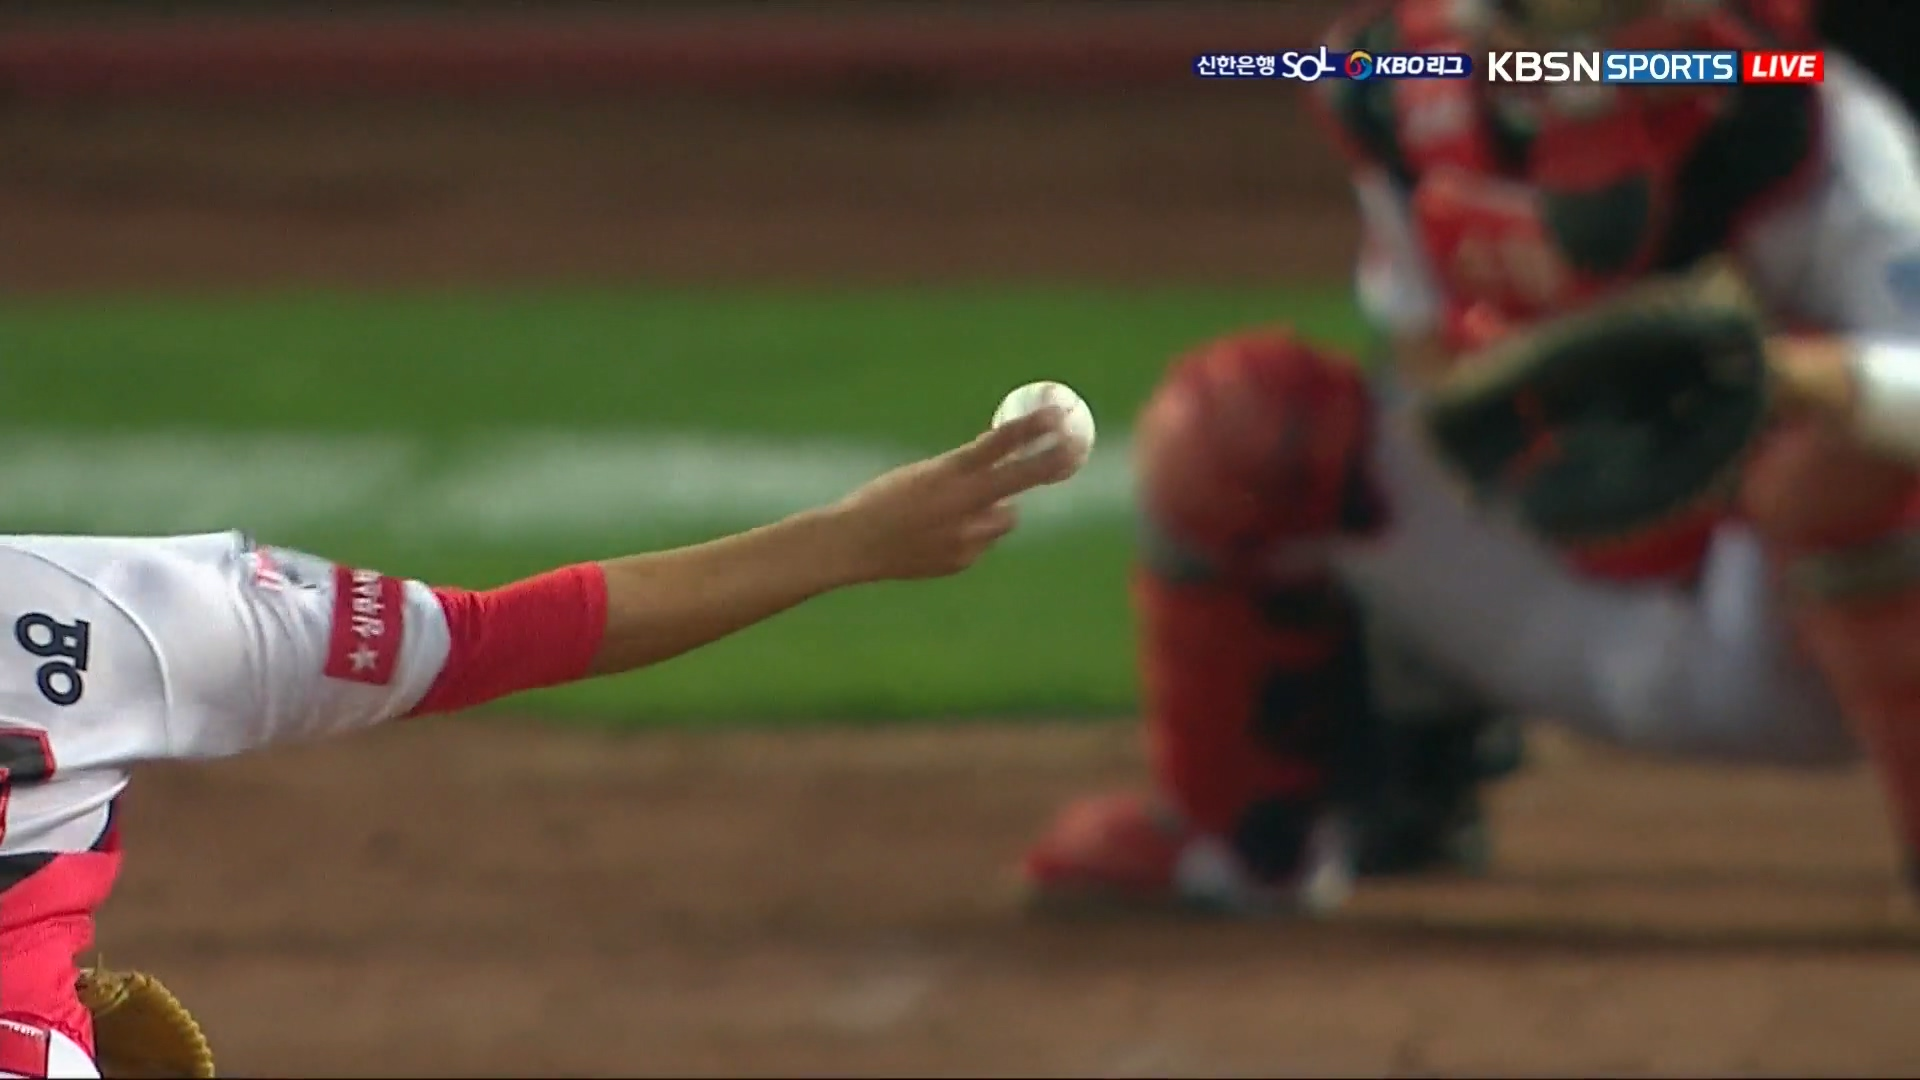zoomin_hand: (427, 375, 1098, 715)
